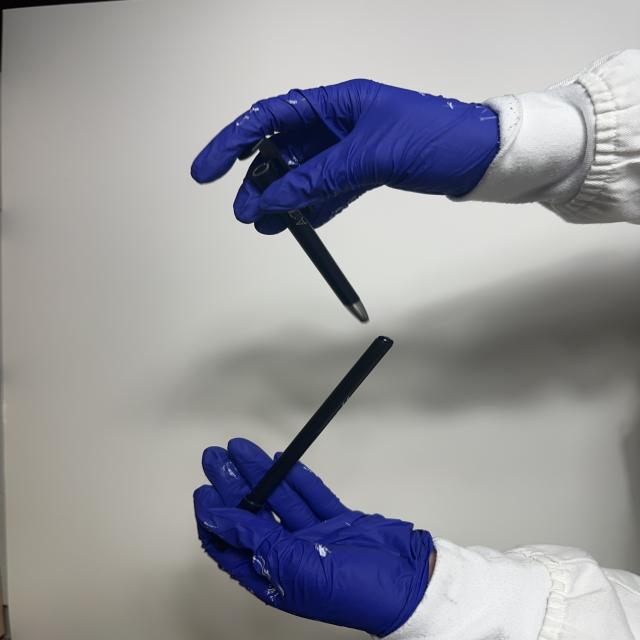gloves_contaminated: (191, 79, 500, 234), (194, 439, 434, 637)
